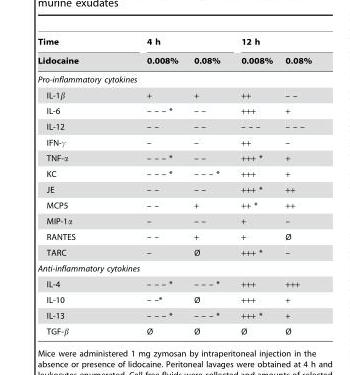table: (37, 37, 311, 335)
table column: (37, 37, 142, 335), (230, 37, 278, 335), (185, 37, 230, 335), (142, 37, 185, 335), (278, 37, 311, 335)
table column header: (37, 37, 311, 69)
table projected row header: (37, 69, 311, 86), (37, 260, 311, 275)
table row: (37, 51, 311, 69), (37, 69, 311, 86), (37, 243, 311, 260), (37, 306, 311, 323), (37, 86, 311, 102), (37, 102, 311, 118), (37, 133, 311, 149), (37, 149, 311, 165), (37, 180, 311, 196), (37, 196, 311, 212), (37, 212, 311, 228), (37, 275, 311, 291), (37, 118, 311, 133), (37, 165, 311, 180), (37, 228, 311, 243), (37, 260, 311, 275), (37, 291, 311, 306), (37, 37, 311, 51), (37, 323, 311, 335)
table spanning cell: (37, 37, 142, 69), (142, 37, 230, 51), (230, 37, 311, 51)
